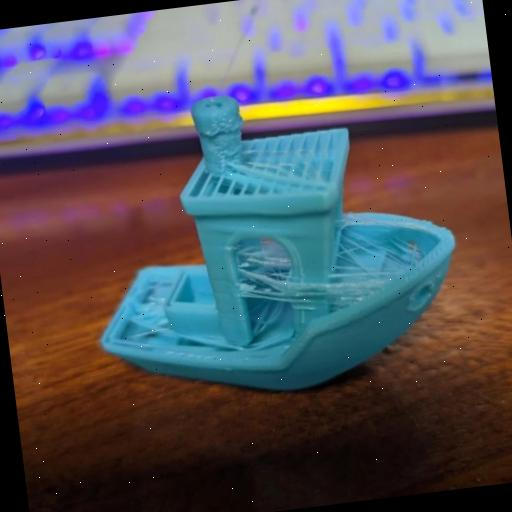stringing: (311, 219, 417, 313), (228, 236, 306, 307)
